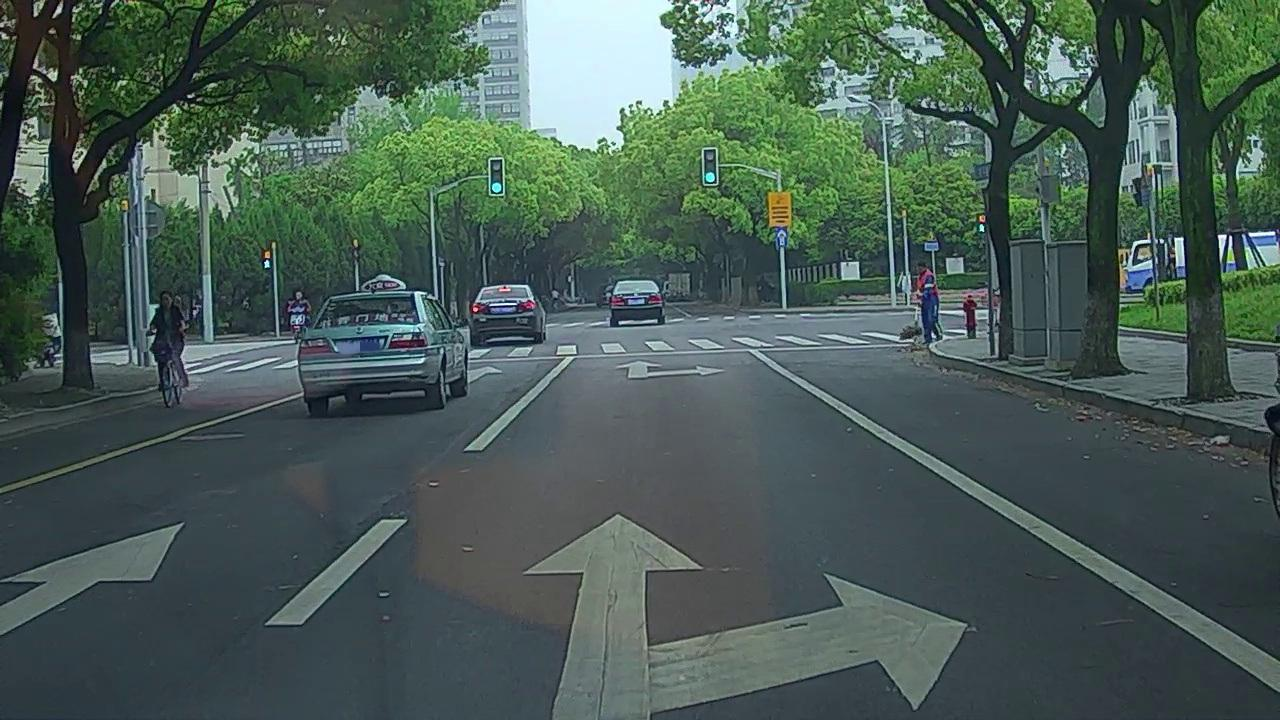traffic_light: (704, 149, 717, 184), (491, 159, 503, 196)
